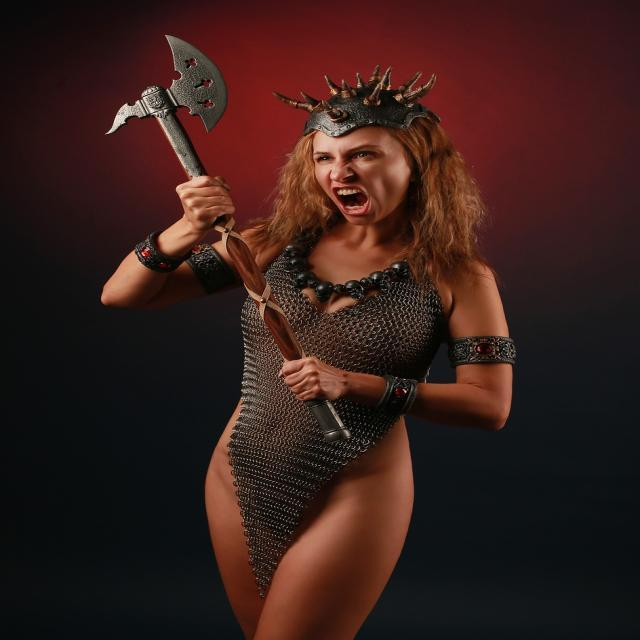Axe: (108, 35, 228, 177), (215, 216, 304, 359), (309, 401, 350, 439)
